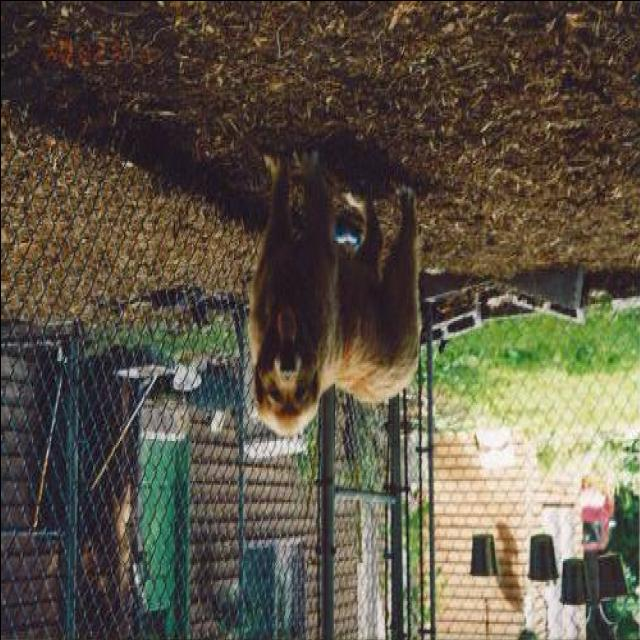dog: (228, 140, 436, 452)
